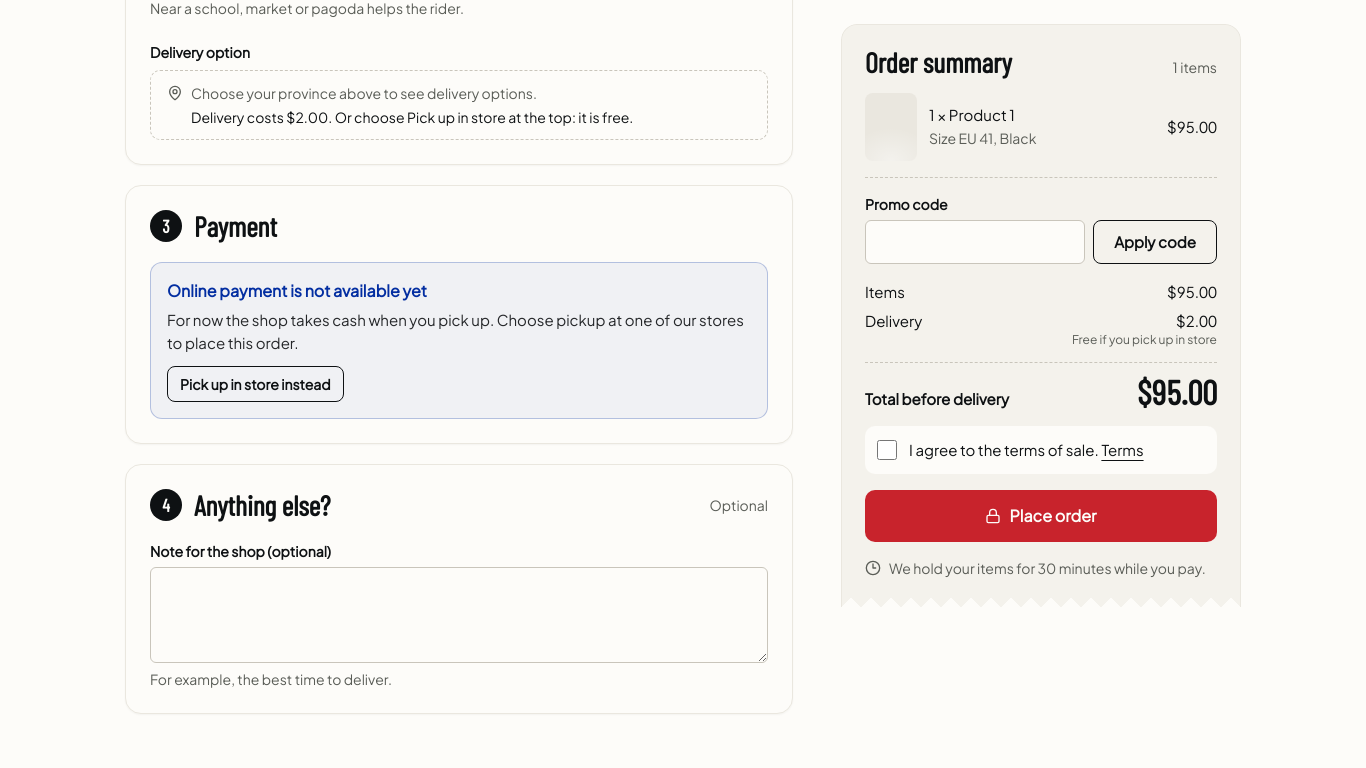
Test: checkout › explains when delivery has no way to pay (cash-only shop) and switches to pickup
(page scrolled)
Expected: the text "Online payment is not available yet" is shown, [167, 280, 427, 301]
Click the button "Pick up in store instead": click(255, 384) [167, 366, 344, 402]
(page scrolled)
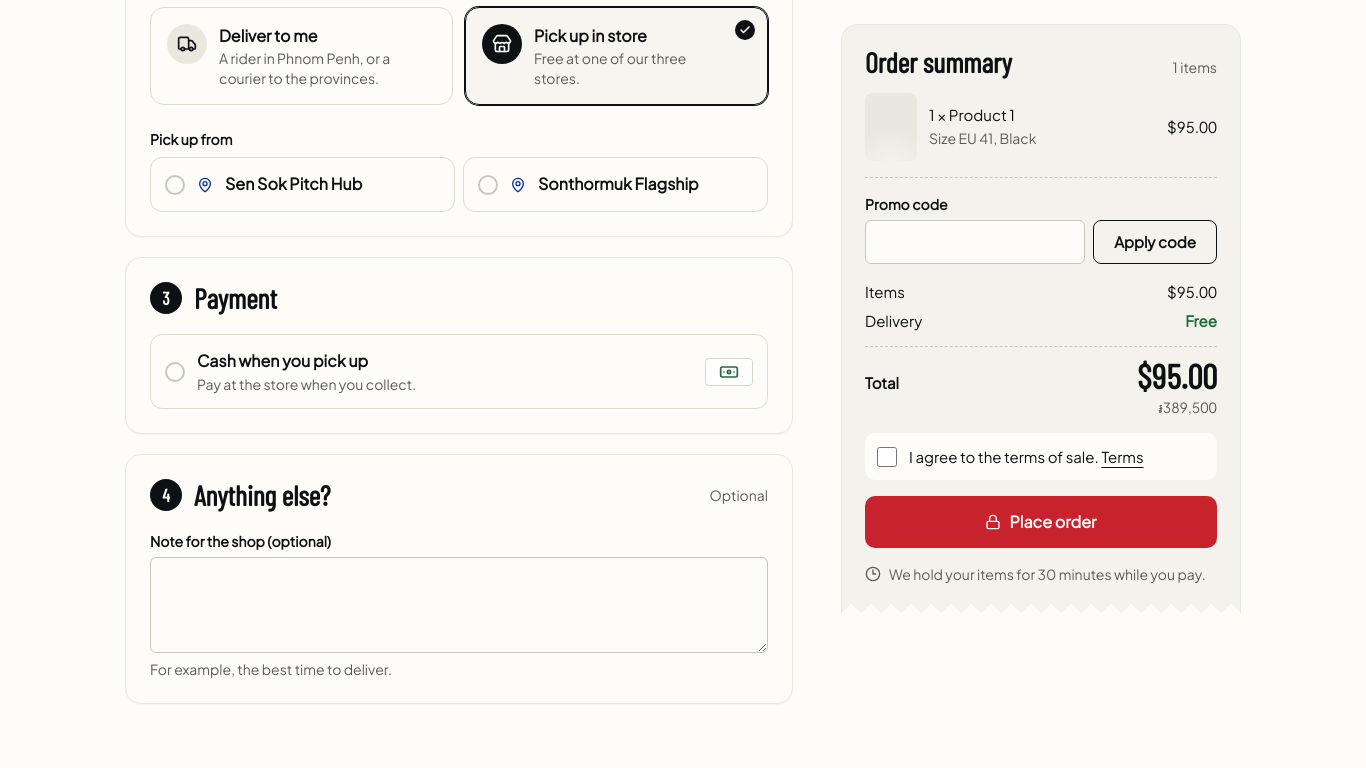
Result: the radio button labelled "Pick up in store Free at one of our three stores." is checked at [465, 7, 768, 105]
Result: the radio button labelled "Cash when you pick up Pay at the store when you collect." is shown at [150, 334, 768, 409]
Result: the text "Online payment is not available yet" is gone
